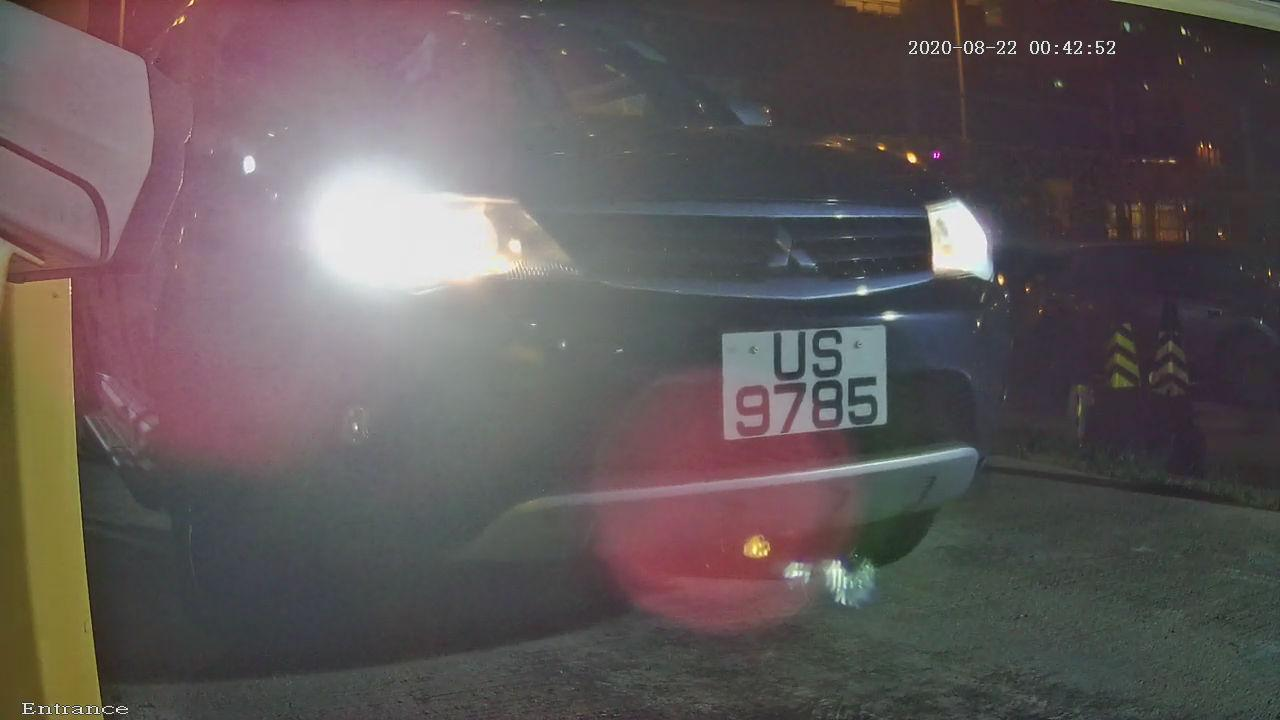Car: (63, 20, 1143, 653)
License Plate: (703, 303, 909, 460)
